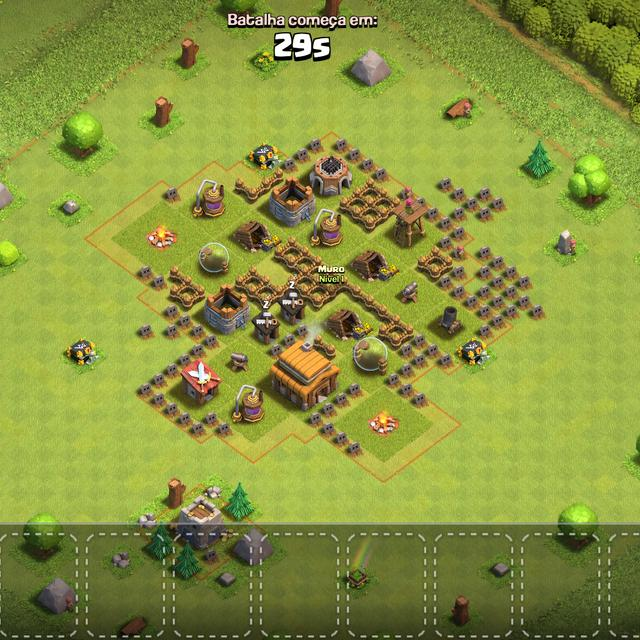Arqueira: (394, 198, 427, 250)
Canhao: (228, 348, 252, 375), (398, 280, 419, 304)
